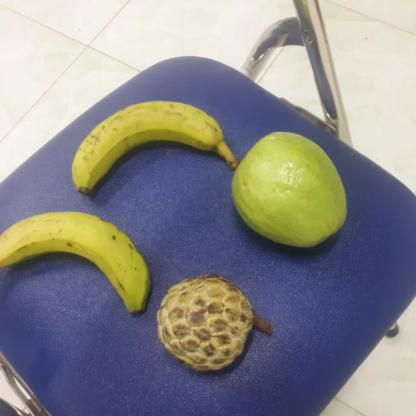annona: (159, 274, 263, 376)
banana: (73, 100, 243, 196), (5, 212, 154, 309)
guava: (230, 130, 352, 248)
